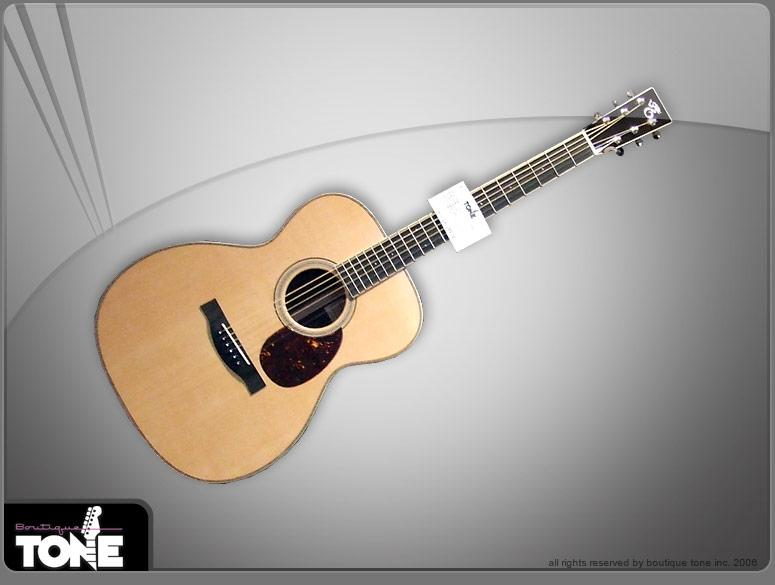guitar: (93, 87, 673, 487)
